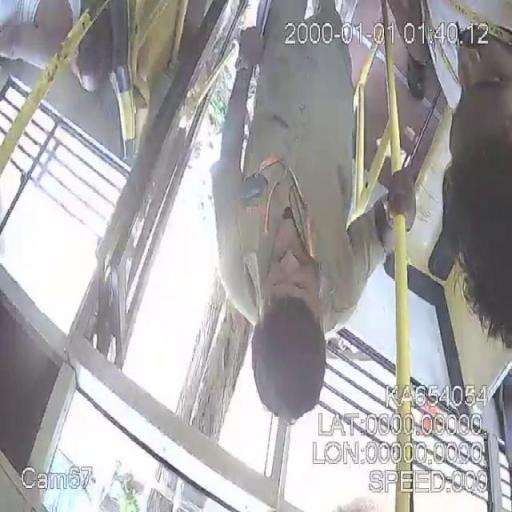persona: (206, 0, 420, 426), (426, 18, 512, 351)
